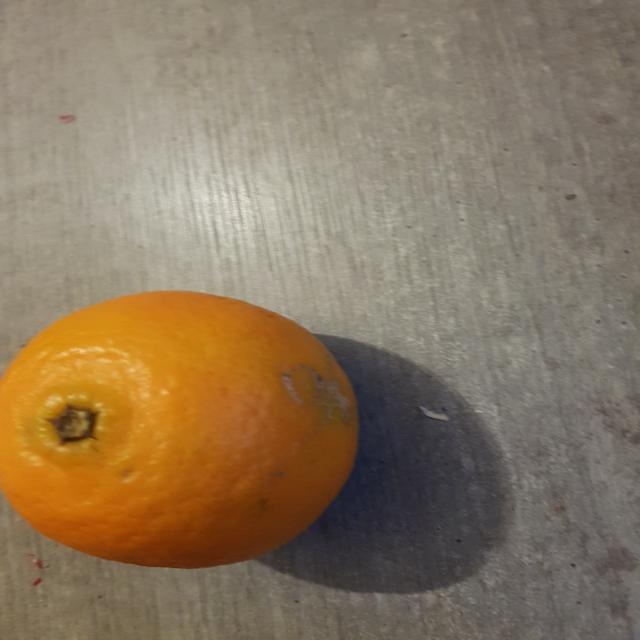Orange: (0, 291, 361, 571)
